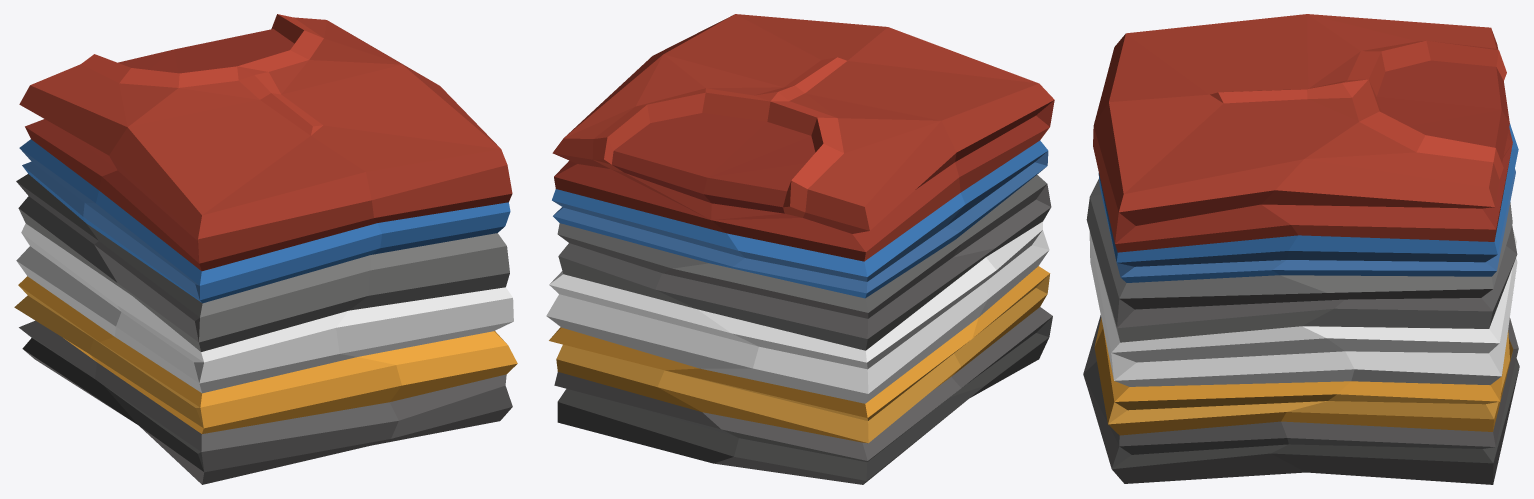
File: SM_Prop_Laundry_Pile_01.fbx
The picture shows the model from 3 angles, left to right: view 1: azimuth 30°, elevation 25°; view 2: azimuth 150°, elevation 25°; view 3: azimuth 270°, elevation 25°; orthographic projection. The views are drawn at different scales.
Parts seen in each view (by area): view 1: SM_Prop_Laundry_Pile_01; view 2: SM_Prop_Laundry_Pile_01; view 3: SM_Prop_Laundry_Pile_01.
Boxes of the visible parts, x1,y1,x2,y2 form: SM_Prop_Laundry_Pile_01: (14, 14, 517, 484); SM_Prop_Laundry_Pile_01: (546, 14, 1054, 484); SM_Prop_Laundry_Pile_01: (1083, 14, 1519, 484).
Size of the model in its own units: 38.69 by 33.52 by 40.32.
